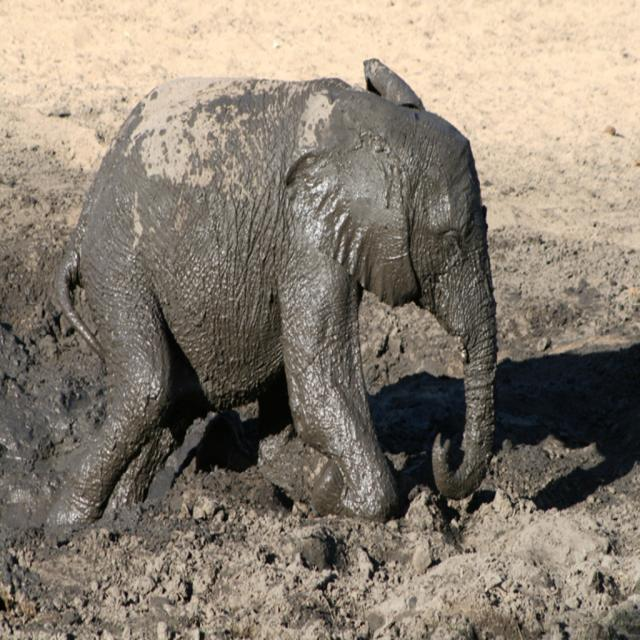Elephant: (26, 33, 492, 530)
